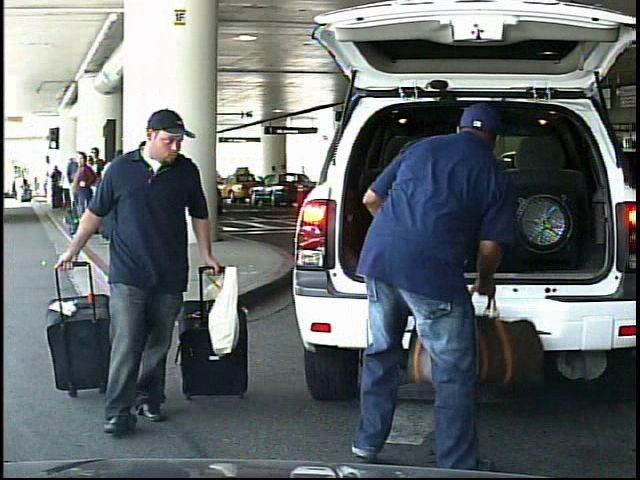person: (339, 99, 526, 476), (77, 109, 235, 435), (276, 162, 288, 197), (14, 171, 25, 202)
